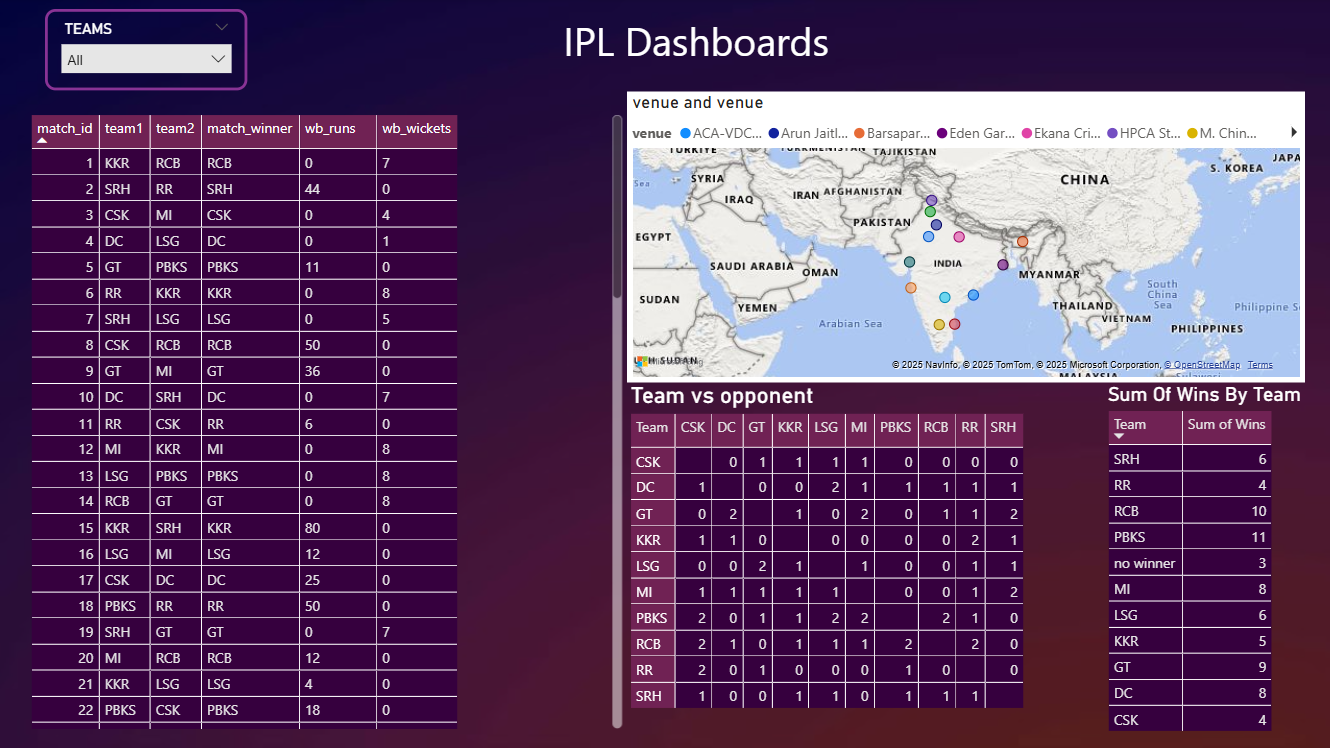

The page's visual inventory and layout, read from the dashboard file:
{"tool":"powerbi","page":{"name":"Page 1","canvas":[1280,720],"ordinal":0},"visuals":[{"type":"tableEx","fields":{"Values":["Matches.match_id","Matches.team1","Matches.team2","Matches.match_winner","Matches.wb_runs","Matches.wb_wickets"]},"box":[27.3,107.5,576.9,598.1],"z":0},{"type":"slicer","fields":{"Values":["Merge1.TEAMS"]},"box":[46,12,194,78],"z":1000},{"type":"tableEx","title":"Sum Of Wins By Team","fields":{"Values":["Team_Wins.match_winner","Team_Wins.Wins"]},"box":[1059.9,369.5,219.6,349.8],"z":2000},{"type":"pivotTable","title":"Team vs opponent","fields":{"Rows":["HeadToHead.Team"],"Columns":["HeadToHead.Opponent"],"Values":["HeadToHead.Total Wins"]},"box":[602.7,369.5,454.3,349.8],"z":3000},{"type":"textbox","box":[424,12.1,469.4,66.6],"z":4000},{"type":"map","fields":{"Category":["Matches.venue"],"Series":["Matches.venue"]},"box":[604.2,90.9,649.6,278.6],"z":5000}]}

Visuals, with their boxes in screenshot pixels (x1, y1, x2, y2), scaled from the page's 1280x720 canvas onto the 1330x748 screenshot:
tableEx - Matches.match_id x Matches.team1: [x1=28, y1=112, x2=628, y2=733]
slicer - Merge1.TEAMS: [x1=48, y1=12, x2=249, y2=94]
"Sum Of Wins By Team" tableEx: [x1=1101, y1=384, x2=1329, y2=747]
"Team vs opponent" pivotTable: [x1=626, y1=384, x2=1098, y2=747]
textbox: [x1=441, y1=13, x2=928, y2=82]
map - Matches.venue x Matches.venue: [x1=628, y1=94, x2=1303, y2=384]
